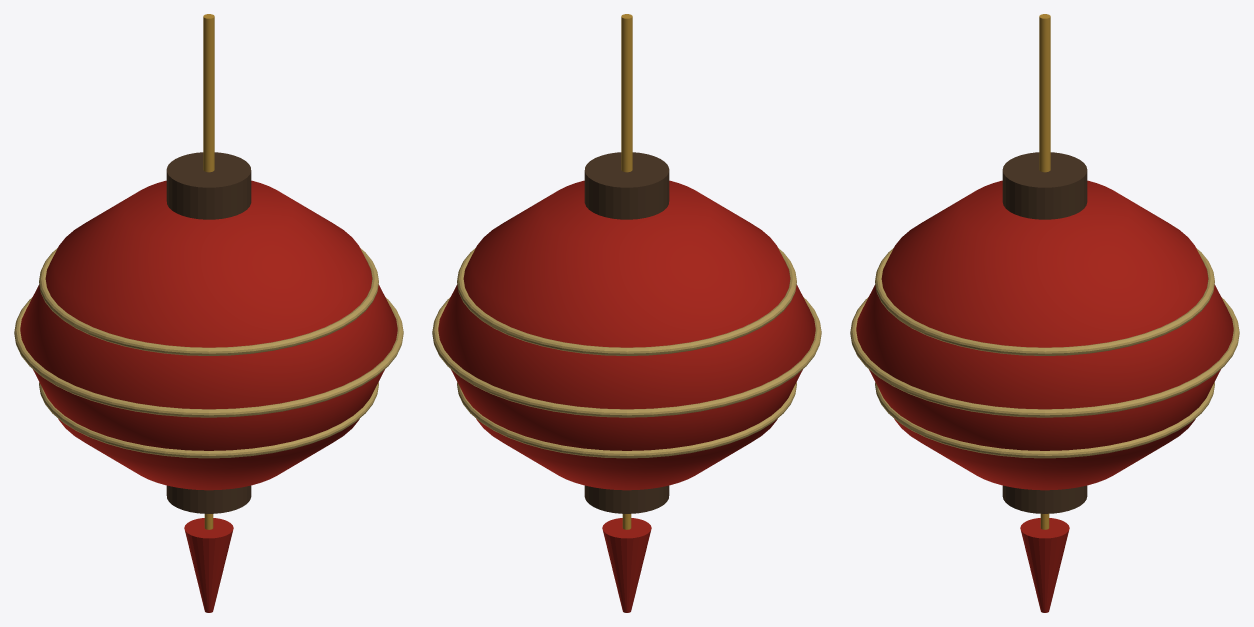
Rendered from paper-lantern.glb.
3 views of the same model, side by side, from view 1: azimuth 30°, elevation 25°; view 2: azimuth 150°, elevation 25°; view 3: azimuth 270°, elevation 25° (orthographic).
Parts seen in each view (by area): view 1: lantern_body, cap_top, rib.002, rib.003, rib.001, tassel, cord, cap_bottom; view 2: lantern_body, cap_top, rib.002, rib.003, rib.001, tassel, cord, cap_bottom; view 3: lantern_body, cap_top, rib.002, rib.003, rib.001, tassel, cord, cap_bottom.
Part boxes in pixels (x1,y1,x2,y2): lantern_body: [20, 180, 397, 490]; cap_top: [166, 152, 251, 219]; rib.002: [14, 297, 403, 417]; rib.003: [39, 248, 378, 355]; rib.001: [39, 382, 378, 458]; tassel: [184, 518, 233, 612]; cord: [203, 14, 214, 172]; cap_bottom: [166, 485, 251, 513]; lantern_body: [438, 180, 815, 490]; cap_top: [584, 152, 669, 219]; rib.002: [432, 297, 821, 417]; rib.003: [457, 248, 796, 355]; rib.001: [457, 382, 796, 458]; tassel: [602, 518, 651, 612]; cord: [621, 14, 632, 172]; cap_bottom: [584, 485, 669, 513]; lantern_body: [856, 180, 1233, 490]; cap_top: [1002, 152, 1087, 219]; rib.002: [850, 297, 1239, 417]; rib.003: [875, 248, 1214, 355]; rib.001: [875, 382, 1214, 458]; tassel: [1020, 518, 1069, 612]; cord: [1039, 14, 1050, 172]; cap_bottom: [1002, 485, 1087, 513].
Bounding box in the file's own units: 0.552 × 0.93 × 0.552.
